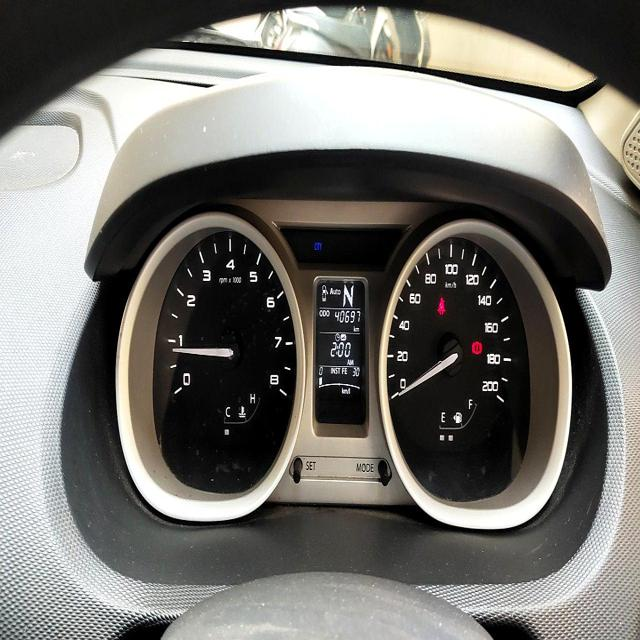odometer: (331, 308, 363, 331)
